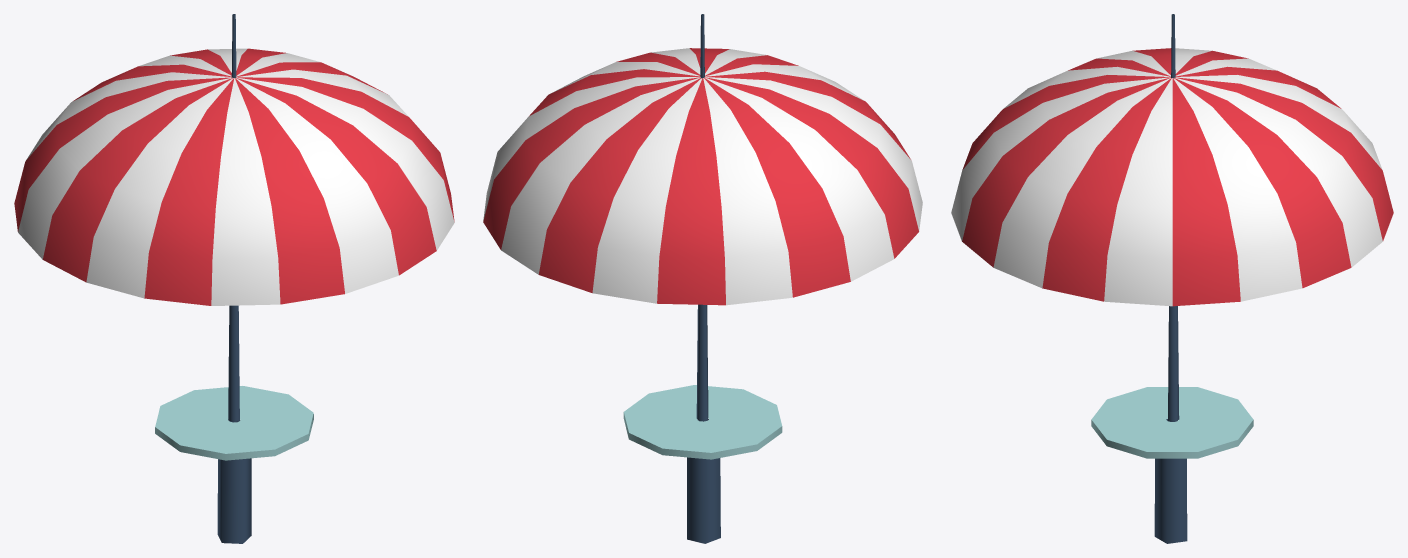
The model's file is SM_Umbrella_Table2.fbx.
3 renders of one model, left to right at view 1: azimuth 30°, elevation 25°; view 2: azimuth 150°, elevation 25°; view 3: azimuth 270°, elevation 25°, orthographic.
Parts seen in each view (by area): view 1: SM_Umbrella_Table2; view 2: SM_Umbrella_Table2; view 3: SM_Umbrella_Table2.
Part boxes in pixels (bbox=[...]): SM_Umbrella_Table2: bbox=[14, 14, 454, 543]; SM_Umbrella_Table2: bbox=[483, 14, 922, 543]; SM_Umbrella_Table2: bbox=[951, 14, 1393, 543].
Size of the model in its own units: 312 by 406 by 312.
